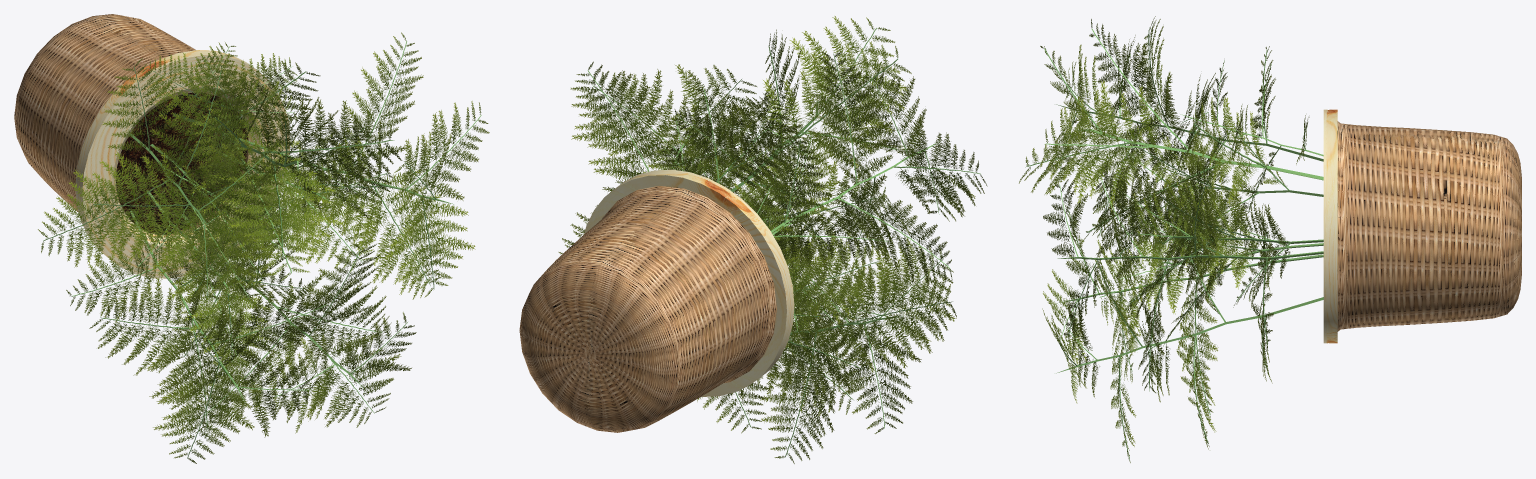
The picture shows the model from 3 angles, left to right: view 1: azimuth 30°, elevation 25°; view 2: azimuth 150°, elevation 25°; view 3: azimuth 270°, elevation 25°; orthographic projection. The views are drawn at different scales.
Visible parts, largest first — view 1: HP02_1; view 2: HP02_1; view 3: HP02_1.
Boxes of the visible parts, x1,y1,x2,y2 form: HP02_1: [14, 14, 489, 463]; HP02_1: [519, 16, 987, 463]; HP02_1: [1019, 16, 1521, 462].
Size of the model in its own units: 60.18 by 55.84 by 65.32.
Materials: 5 (5 with a texture image).
